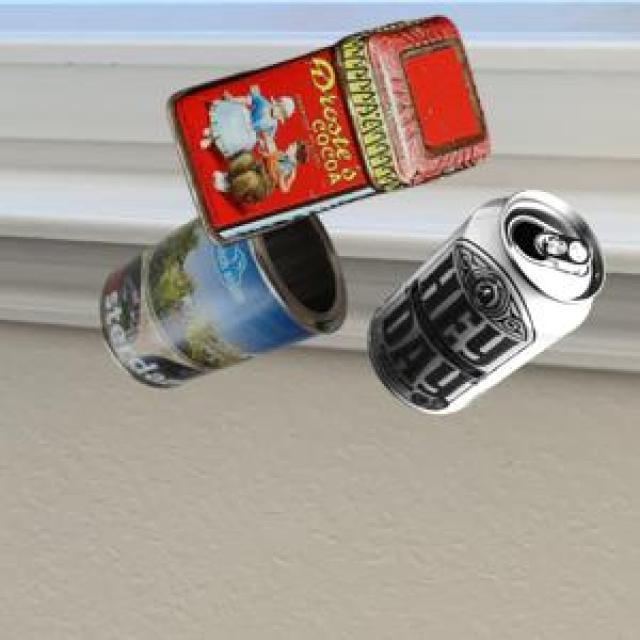logam: (165, 14, 485, 242), (366, 189, 601, 411), (97, 210, 345, 385)
